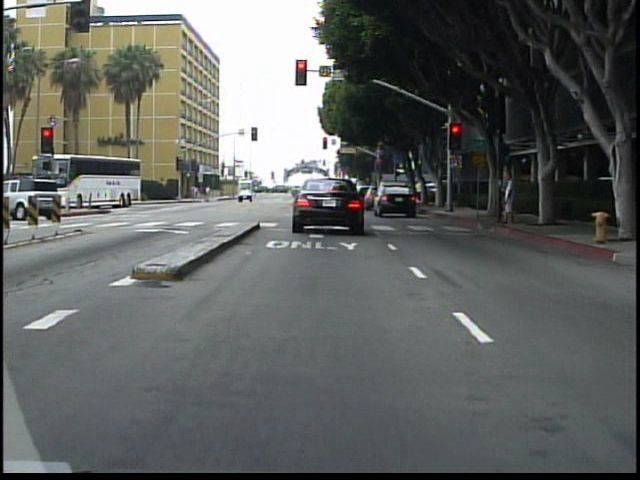person: (499, 169, 519, 228)
